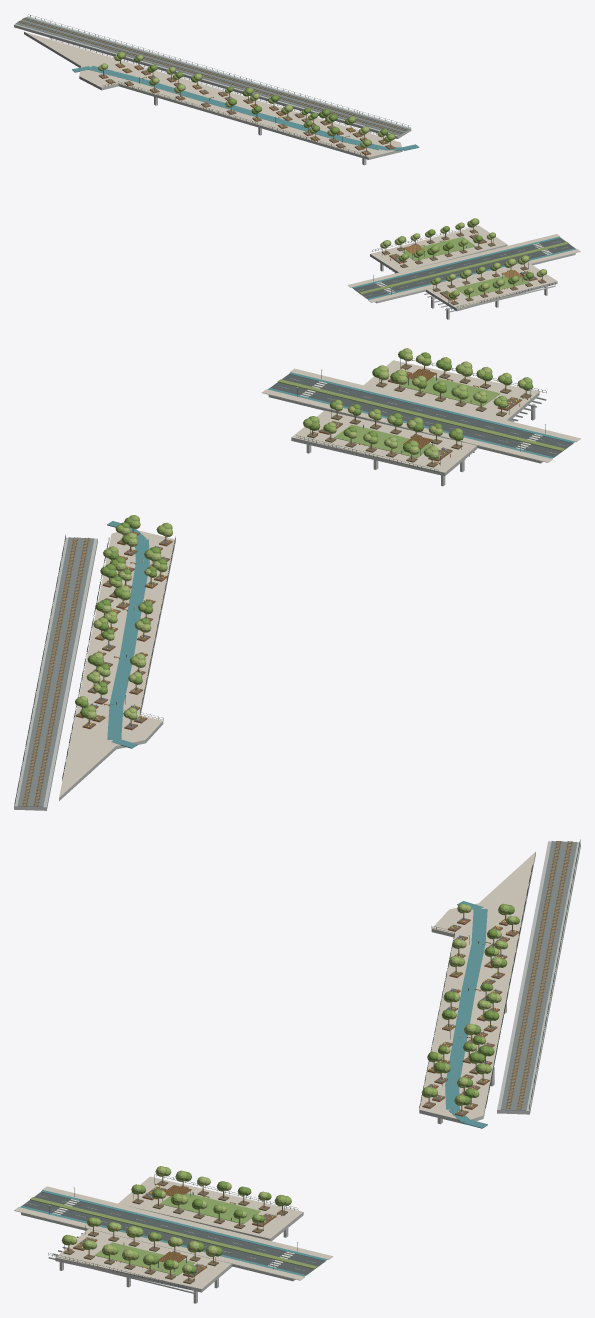
The model's file is i35-stitches.glb.
The picture shows the model from 3 angles, top to bottom: view 1: azimuth 30°, elevation 25°; view 2: azimuth 150°, elevation 25°; view 3: azimuth 330°, elevation 25°; orthographic projection. The views are drawn at different scales.
Visible parts, largest first — view 1: 10 _ 41st Street - traced deck structure__Pale precast concr, 11 _ 41st Street - interpreted park amenities__Dark bronze r, 11 _ 41st Street - interpreted park amenities__Weathered ste; view 2: 10 _ 41st Street - traced deck structure__Pale precast concr, 11 _ 41st Street - interpreted park amenities__Dark bronze r, 11 _ 41st Street - interpreted park amenities__Weathered ste; view 3: 10 _ 41st Street - traced deck structure__Pale precast concr, 11 _ 41st Street - interpreted park amenities__Dark bronze r, 11 _ 41st Street - interpreted park amenities__Weathered ste.
Boxes of the visible parts, box(x1,y1,x2,y2) form: 10 _ 41st Street - traced deck structure__Pale precast concr: box(14, 16, 580, 319); 11 _ 41st Street - interpreted park amenities__Dark bronze r: box(19, 14, 555, 309); 11 _ 41st Street - interpreted park amenities__Weathered ste: box(98, 64, 537, 300); 10 _ 41st Street - traced deck structure__Pale precast concr: box(14, 348, 580, 810); 11 _ 41st Street - interpreted park amenities__Dark bronze r: box(14, 358, 546, 805); 11 _ 41st Street - interpreted park amenities__Weathered ste: box(75, 373, 521, 730); 10 _ 41st Street - traced deck structure__Pale precast concr: box(14, 841, 580, 1303); 11 _ 41st Street - interpreted park amenities__Dark bronze r: box(48, 839, 580, 1289); 11 _ 41st Street - interpreted park amenities__Weathered ste: box(73, 919, 519, 1277).
Size of the model in its own units: 141 by 19.37 by 474.
4 materials, 4 textured.
